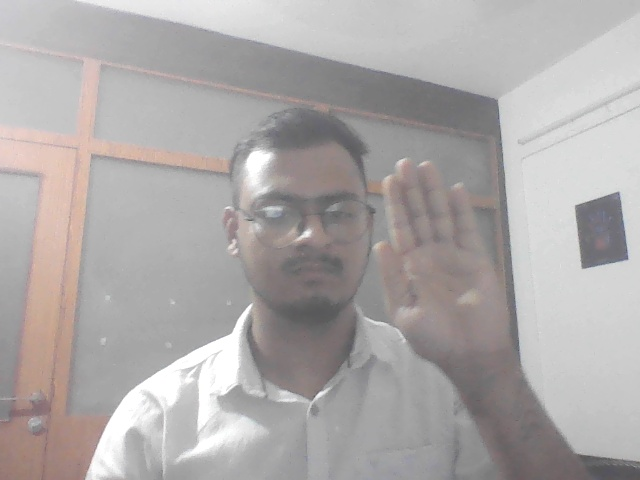Hello: (365, 155, 515, 366)
